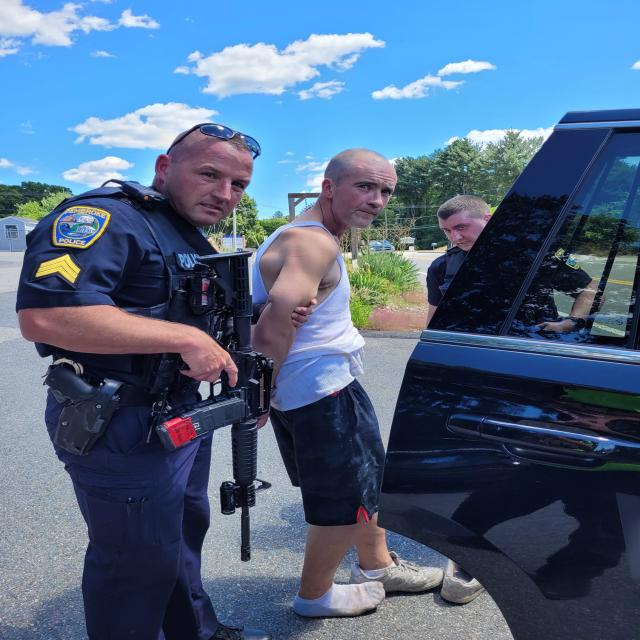police: (2, 95, 284, 640)
